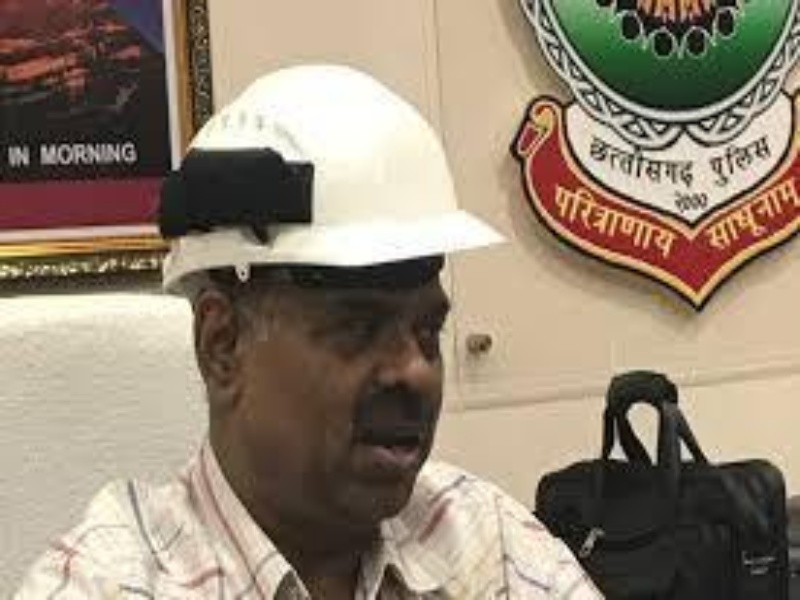helmet: (162, 62, 509, 284)
